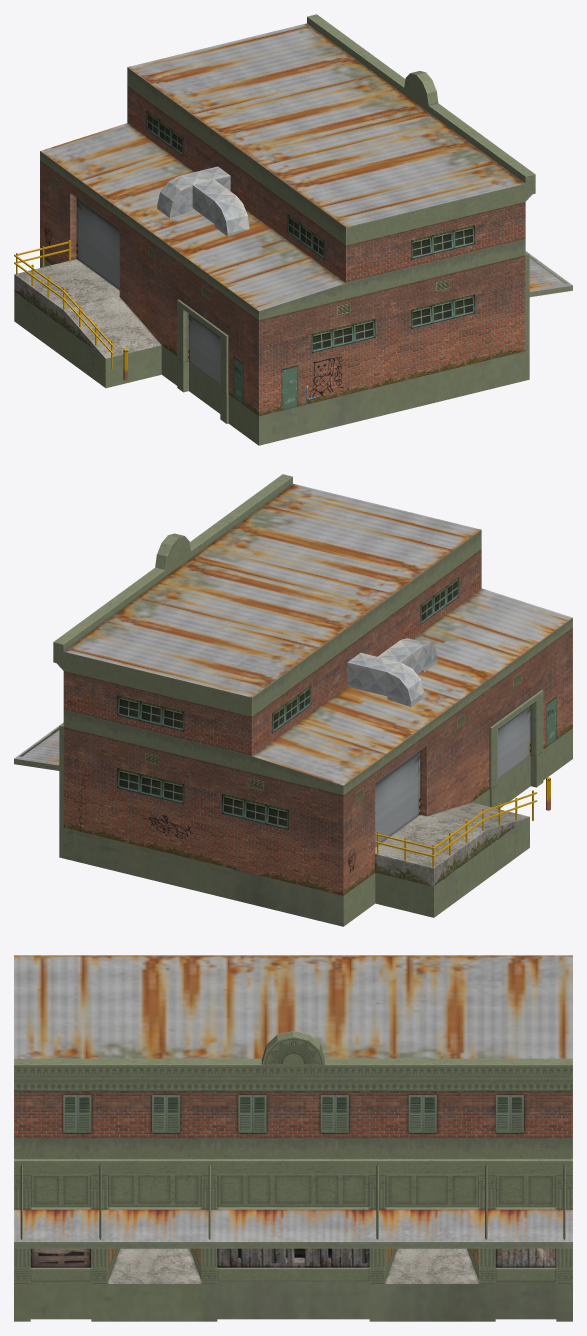
Rendered from Store - Separated.fbx.
The picture shows the model from 3 angles, top to bottom: view 1: azimuth 30°, elevation 25°; view 2: azimuth 150°, elevation 25°; view 3: azimuth 270°, elevation 25°; orthographic projection. The views are drawn at different scales.
Parts seen in each view (by area): view 1: Store, Store_Door_Dock, Store_Door_Bay, Store_Door_Side; view 2: Store, Store_Door_Dock, Store_Door_Bay; view 3: Store.
Part boxes in pixels (left/top/right/bottom): Store: left=14, top=14, right=572, bottom=445; Store_Door_Dock: left=76, top=198, right=119, bottom=289; Store_Door_Bay: left=189, top=314, right=220, bottom=383; Store_Door_Side: left=281, top=365, right=298, bottom=410; Store: left=14, top=474, right=572, bottom=926; Store_Door_Dock: left=375, top=750, right=420, bottom=846; Store_Door_Bay: left=498, top=705, right=530, bottom=778; Store: left=14, top=955, right=572, bottom=1321.
Size of the model in its own units: 10.94 by 6.37 by 11.18.
